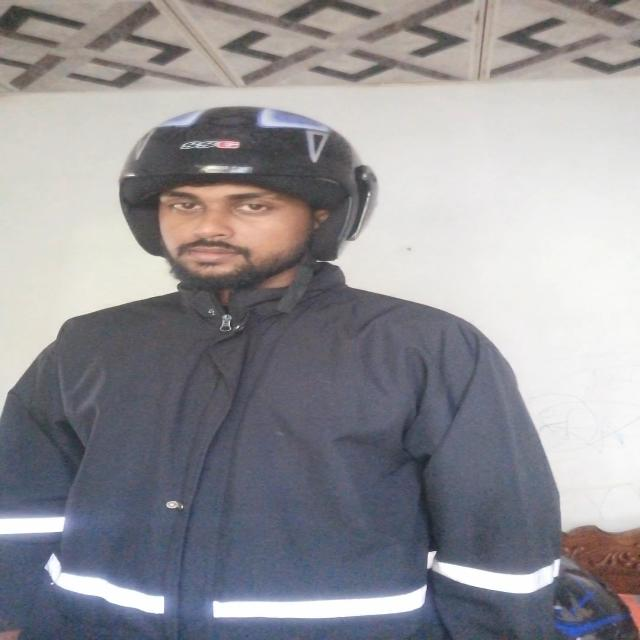Helmet_Wearer: (78, 101, 376, 312)
Jacket_Wearer: (3, 269, 578, 633)
Person: (5, 99, 588, 640)
